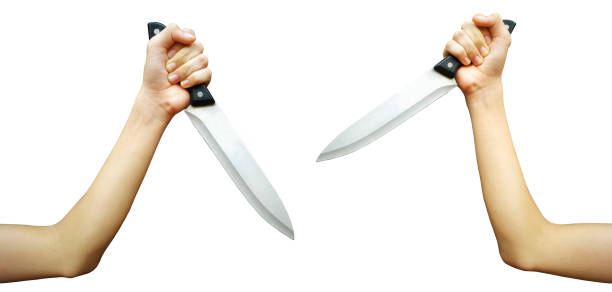knife: (147, 20, 295, 239), (312, 17, 522, 163)
